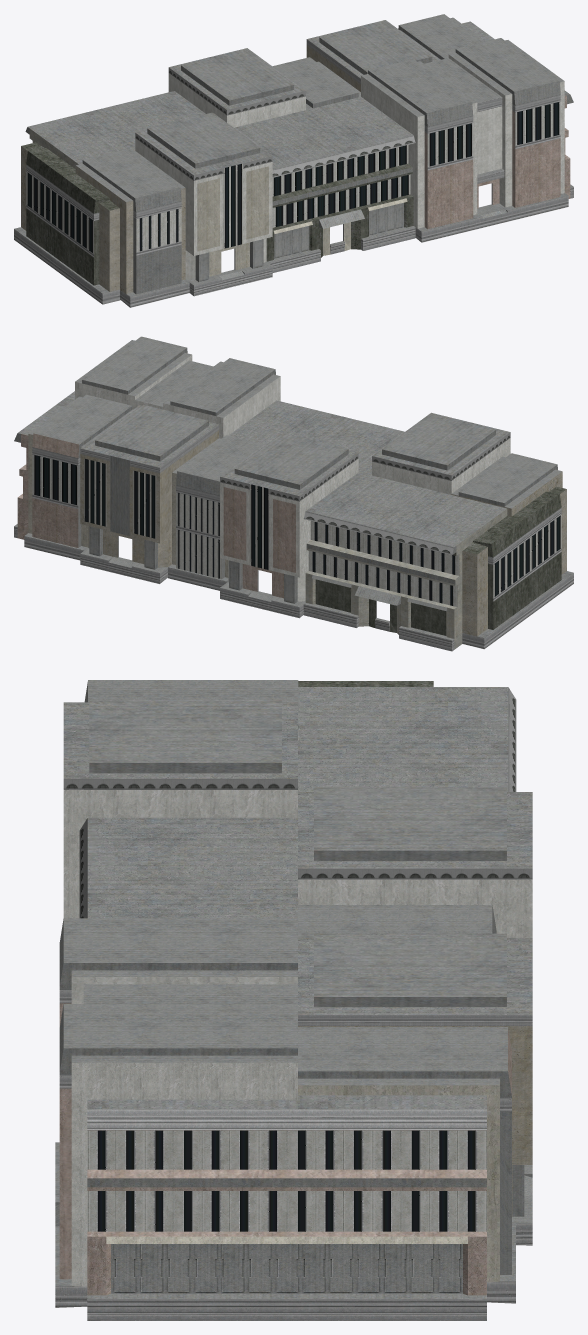
File: thm_corl_imprv_building_block_64x32_s01_r0_exterior_mesh_r0_l1.fbx
3 views of the same model, one above another, from view 1: azimuth 30°, elevation 25°; view 2: azimuth 150°, elevation 25°; view 3: azimuth 270°, elevation 25° (orthographic). The views are drawn at different scales.
Visible parts, largest first — view 1: mesh_node; view 2: mesh_node; view 3: mesh_node.
Boxes of the visible parts, x1,y1,x2,y2 form: mesh_node: (14,14,573,307); mesh_node: (14,336,573,651); mesh_node: (55,680,532,1320).
Size of the model in its own units: 66.11 by 17.25 by 29.5.
